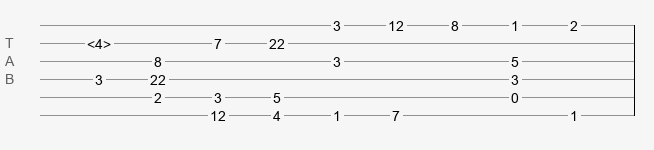0: (511, 90, 519, 100)
1: (333, 108, 341, 118), (511, 18, 519, 28), (570, 108, 578, 118)
12: (210, 108, 226, 118), (388, 18, 404, 28)
2: (154, 90, 162, 100), (570, 18, 578, 28)
22: (150, 72, 166, 82), (269, 36, 285, 46)
3: (95, 72, 103, 82), (214, 90, 222, 100), (333, 18, 341, 28), (333, 54, 341, 64), (511, 72, 519, 82)
4: (273, 108, 281, 118)
5: (273, 90, 281, 100), (511, 54, 519, 64)
7: (214, 36, 222, 46), (392, 108, 400, 118)
8: (154, 54, 162, 64), (451, 18, 459, 28)
harmonic: (87, 36, 111, 46)
